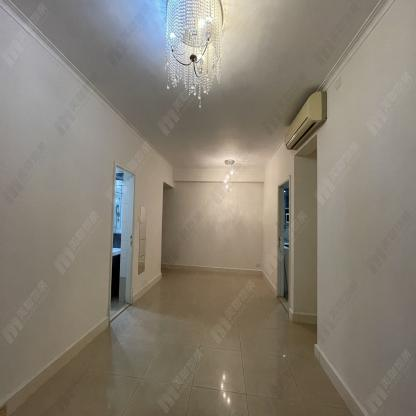AC: (284, 91, 327, 150)
